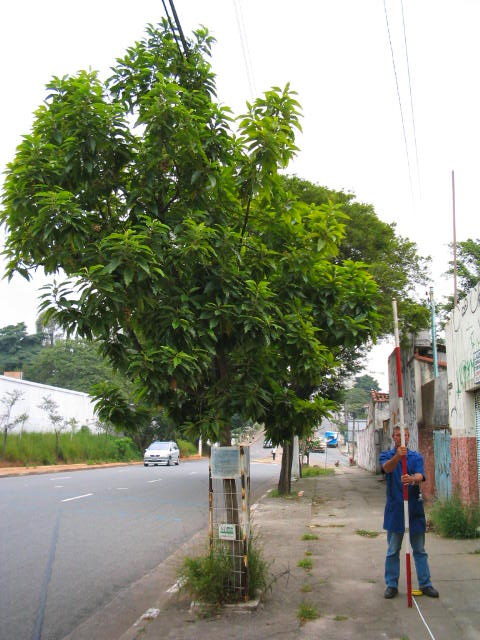crown: (7, 17, 382, 446)
stem: (198, 444, 258, 599)
stick: (386, 300, 418, 607)
tree: (4, 16, 387, 609)
